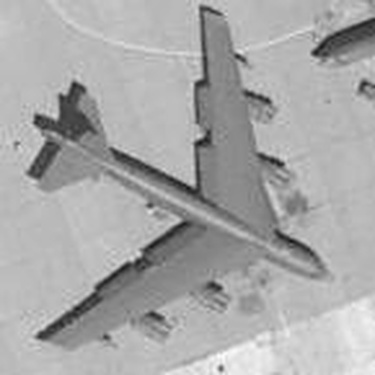airplane: (19, 5, 343, 363), (288, 7, 373, 85)
